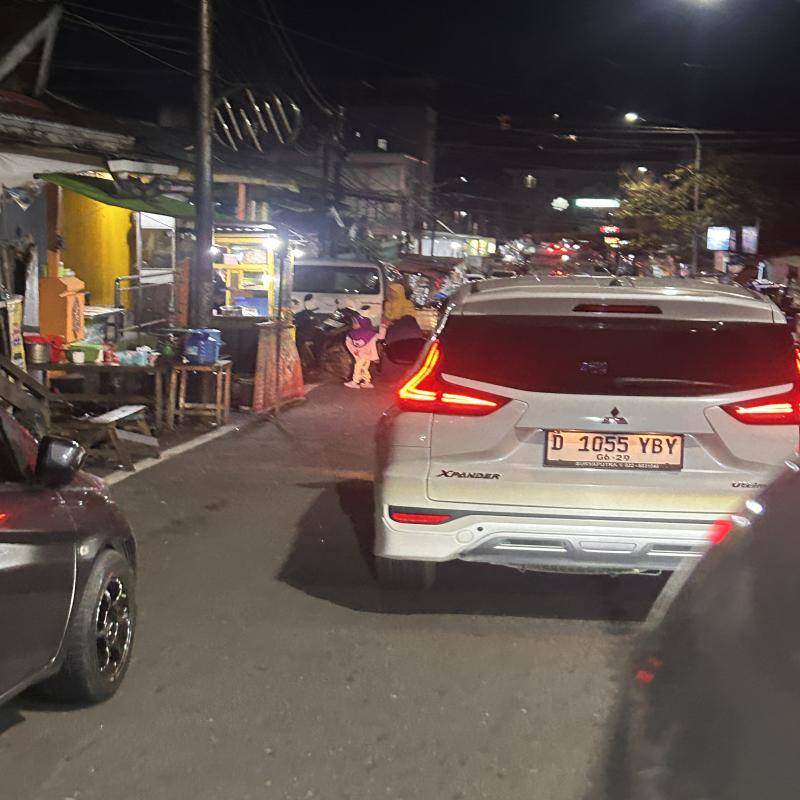license plate on a car: (545, 430, 688, 471)
